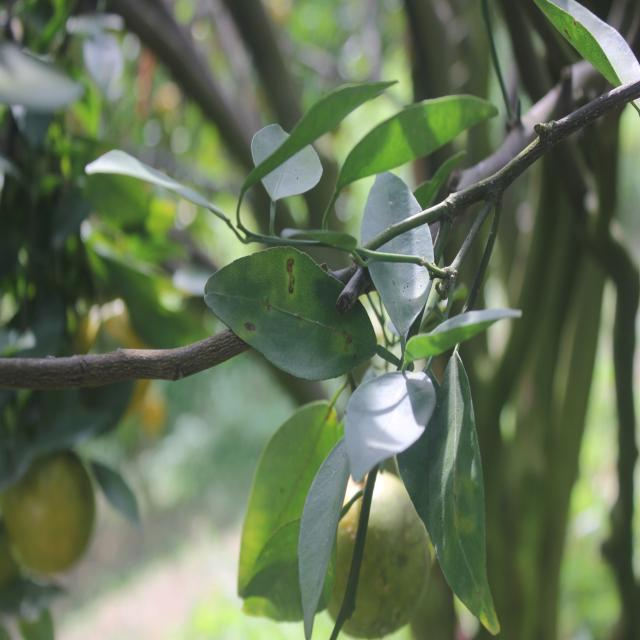canker: (229, 252, 363, 368)
